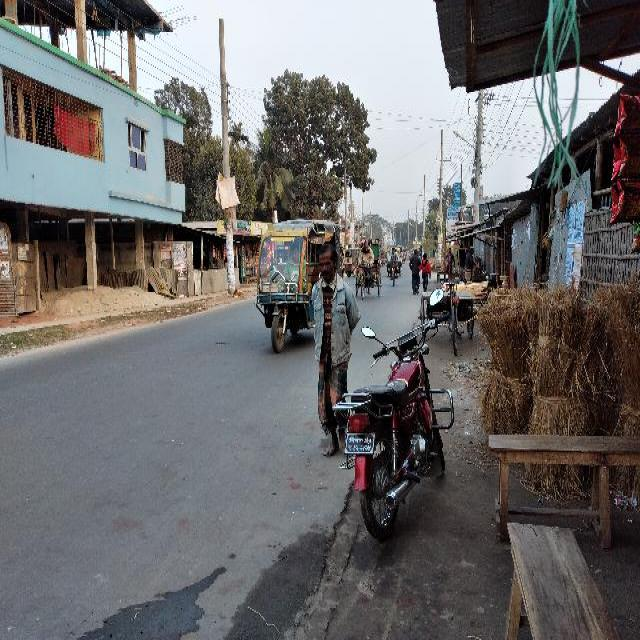bike: (327, 290, 471, 547), (389, 251, 399, 282)
vehicle: (249, 219, 352, 359), (354, 236, 385, 302)
